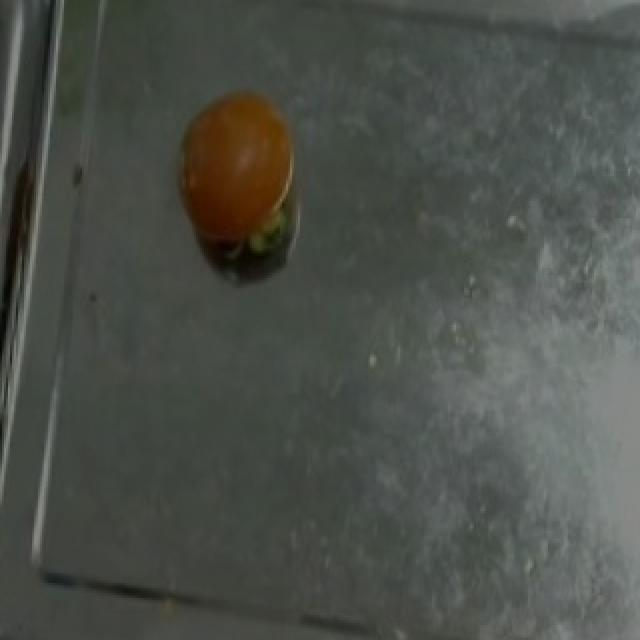Fruit: (174, 80, 312, 260)
